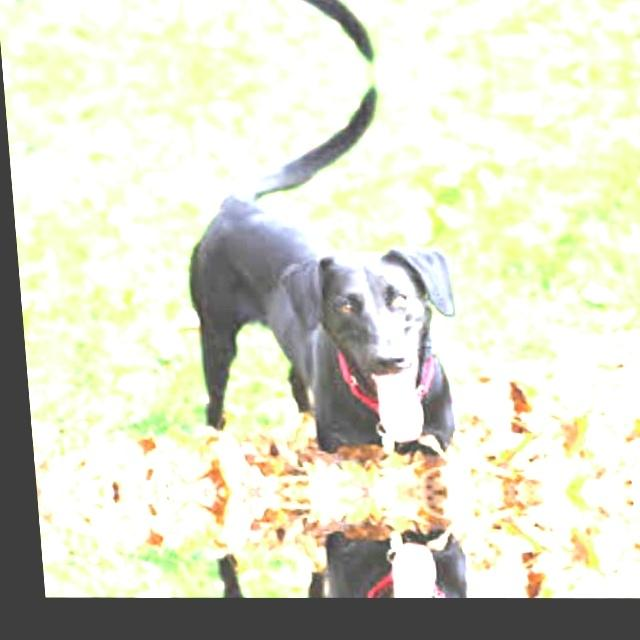dog: (140, 136, 488, 450), (172, 535, 500, 598), (126, 0, 452, 12)
